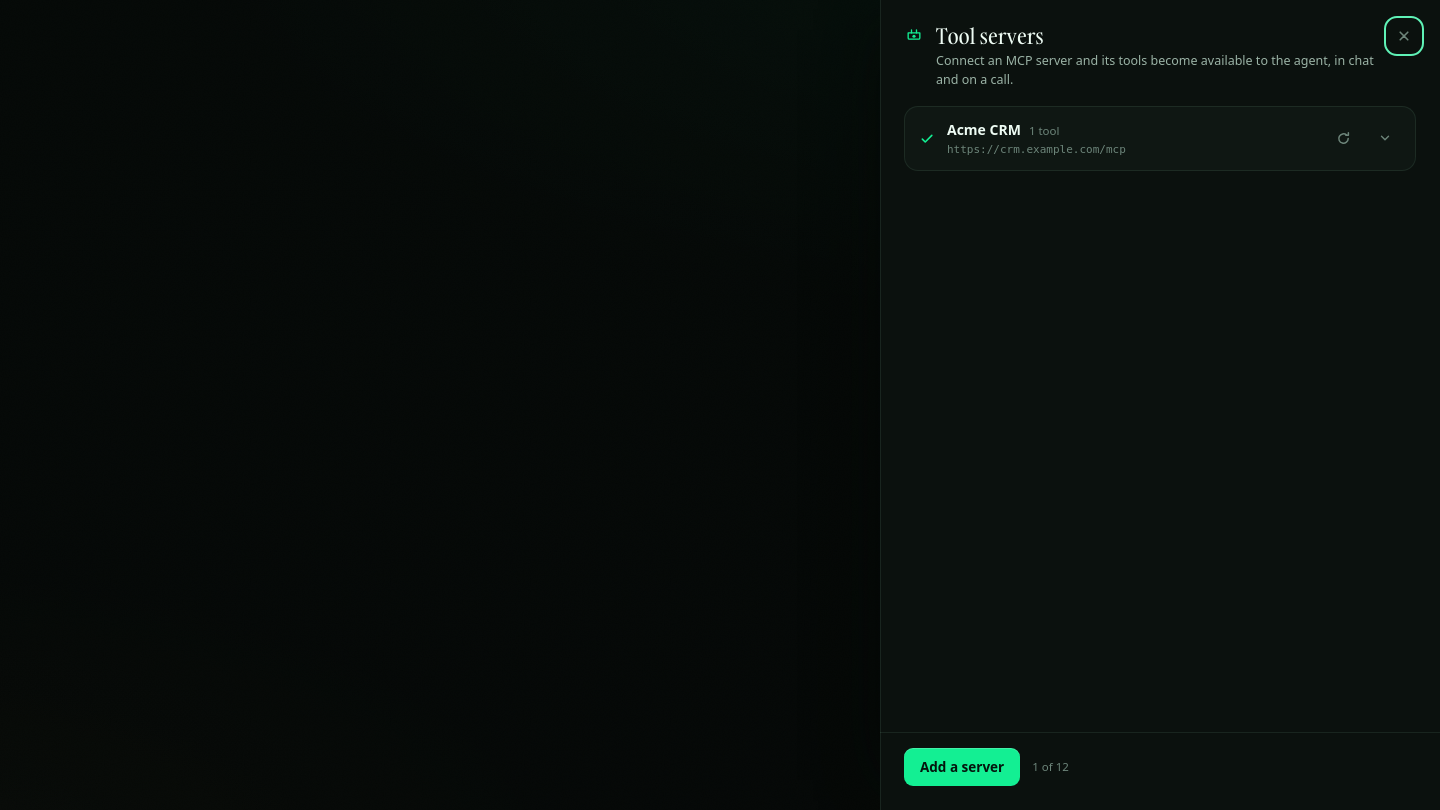
Test: McpPanel › shows the namespaced tool id language the agent actually sees
Click the button named "show details" at (1385, 138), box [1370,123,1400,153]
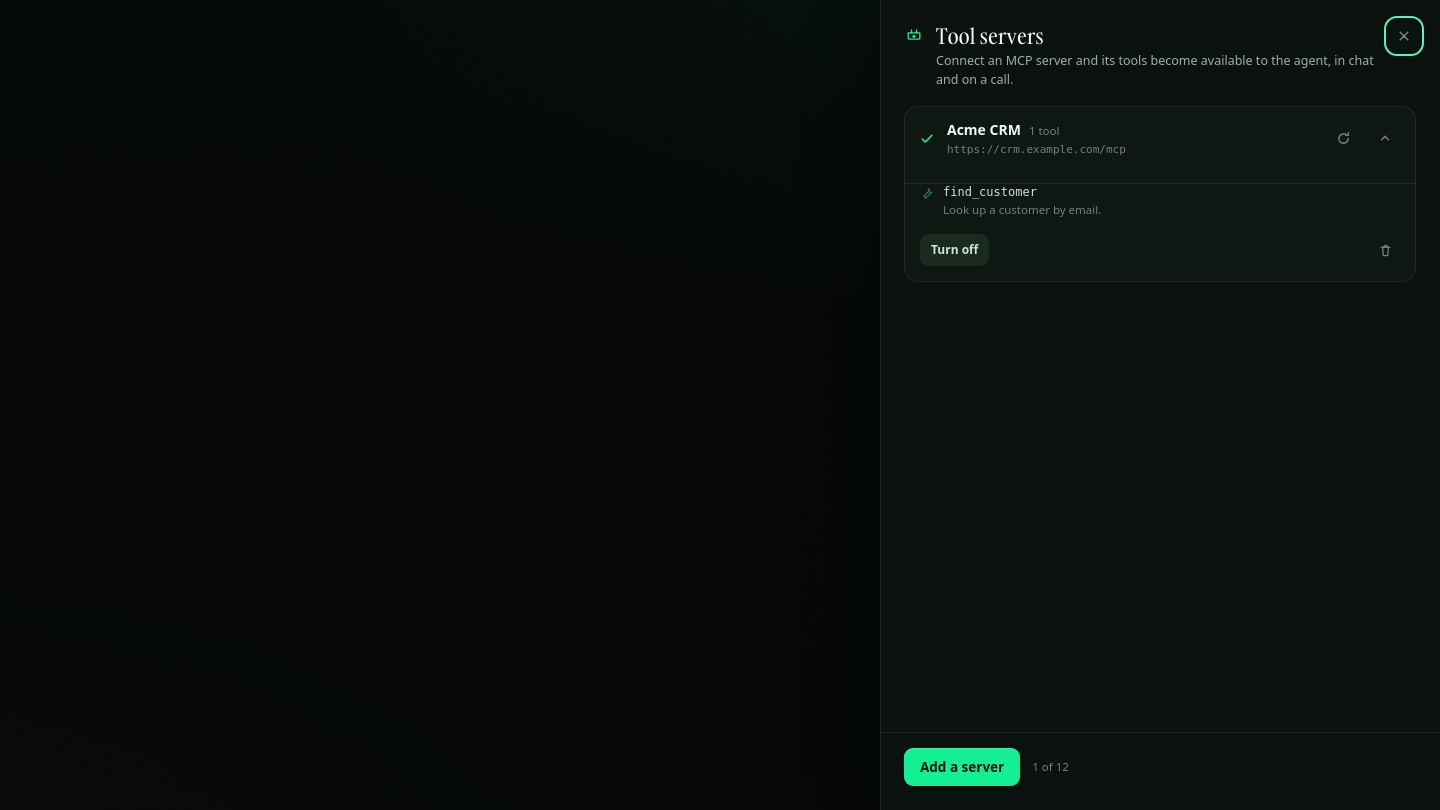
Expected: the text "Look up a customer by email." is shown, [943,201,1101,218]
Expected: the text titled "mcp__Acme-CRM__find_customer" is shown, [943,185,1037,199]
